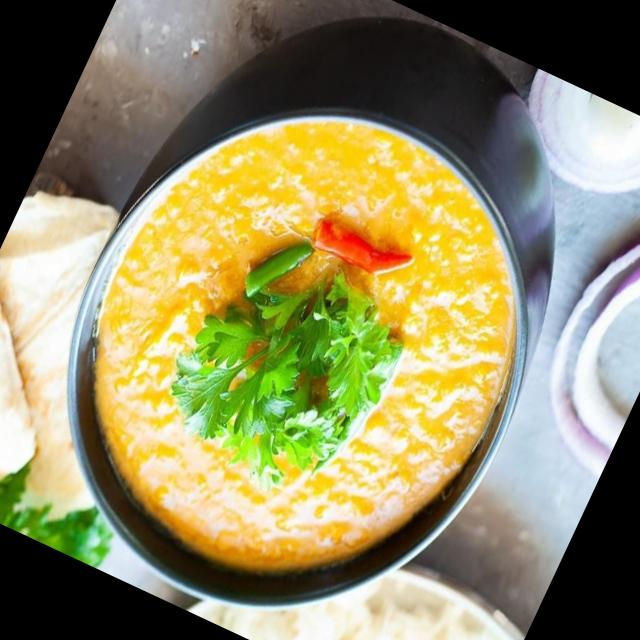dal: (15, 47, 584, 640)
